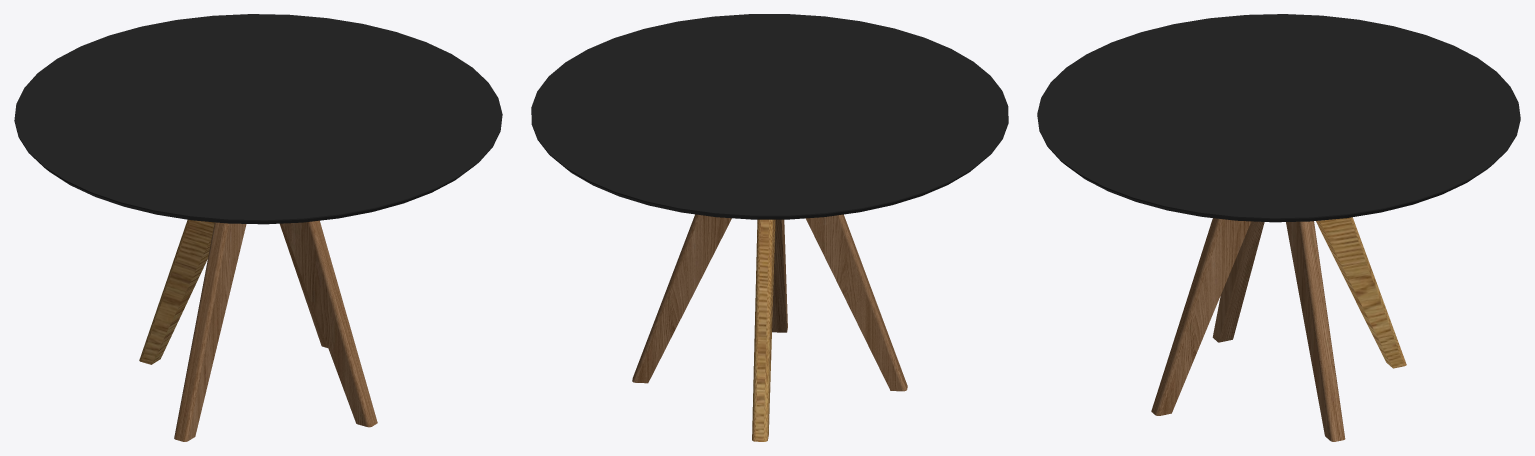
The model's file is MesaRedonda.fbx.
3 renders of one model, left to right at view 1: azimuth 30°, elevation 25°; view 2: azimuth 150°, elevation 25°; view 3: azimuth 270°, elevation 25°, orthographic. The views are drawn at different scales.
Visible parts, largest first — view 1: Tampo, Pés; view 2: Tampo, Pés; view 3: Tampo, Pés.
Part boxes in pixels (x1,y1,x2,y2): Tampo: (14, 14, 502, 224); Pés: (139, 219, 377, 441); Tampo: (531, 14, 1008, 219); Pés: (632, 214, 907, 441); Tampo: (1037, 14, 1520, 222); Pés: (1151, 217, 1406, 441).
Bounding box in the file's own units: 120 × 74.43 × 120.
Materials: 3 (2 with a texture image).
